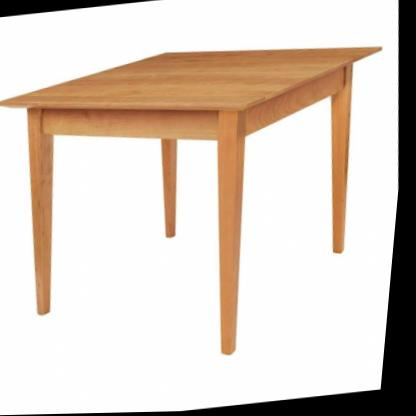Table: (0, 22, 414, 390)
